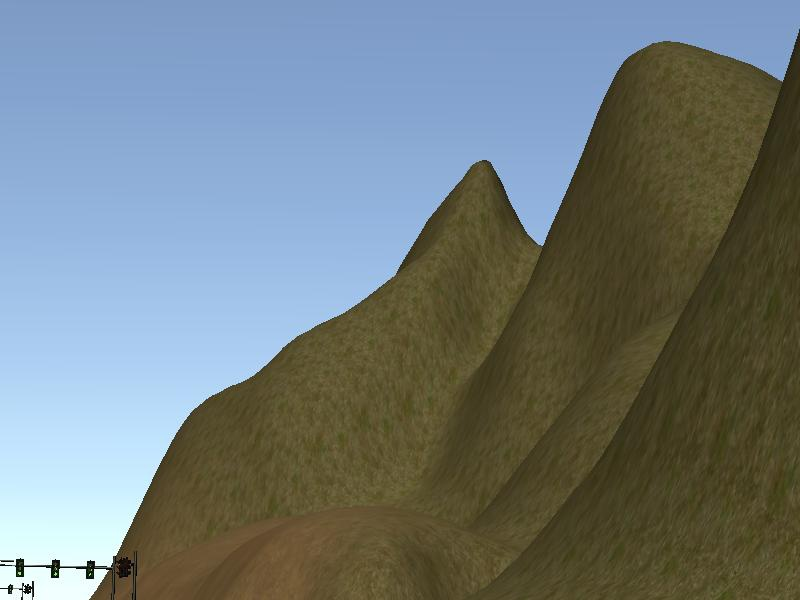Green: (50, 559, 59, 579), (15, 557, 24, 577), (85, 560, 94, 578)
